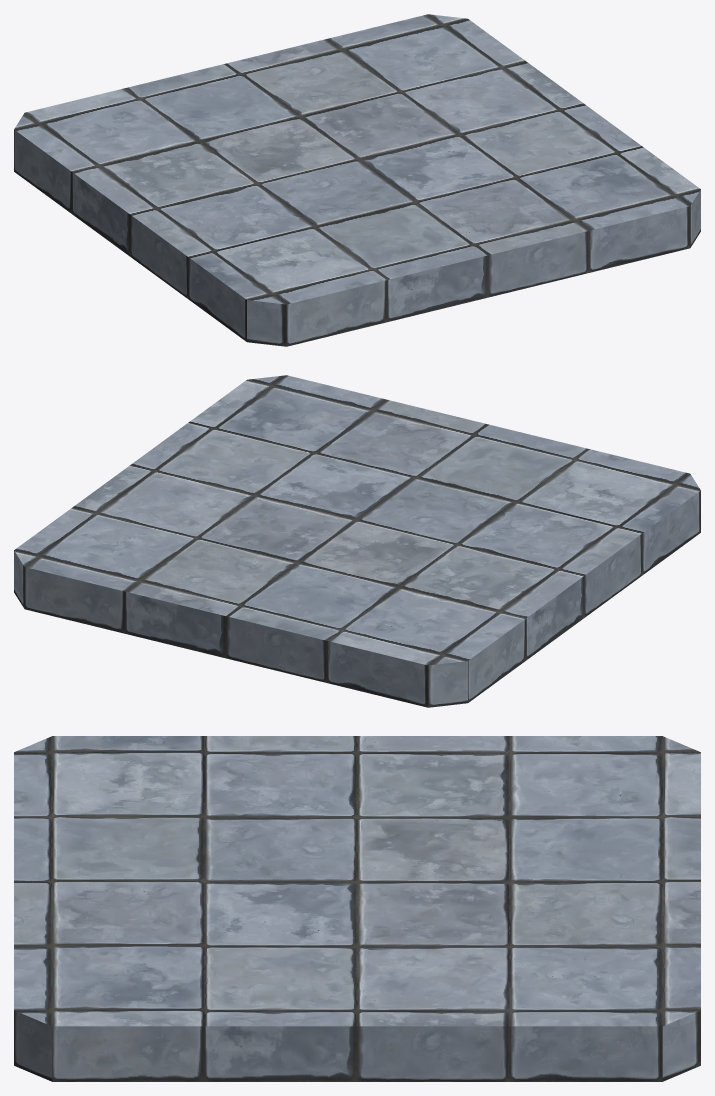
The model's file is Floor1.fbx.
The picture shows the model from 3 angles, top to bottom: view 1: azimuth 30°, elevation 25°; view 2: azimuth 150°, elevation 25°; view 3: azimuth 270°, elevation 25°; orthographic projection. The views are drawn at different scales.
Parts seen in each view (by area): view 1: roof_square_85; view 2: roof_square_85; view 3: roof_square_85.
Part boxes in pixels (x1,y1,x2,y2): roof_square_85: (14,14,700,346); roof_square_85: (14,375,700,707); roof_square_85: (14,736,700,1081).
Bounding box in the file's own units: 11.25 × 1 × 11.25.
Materials: 1 (1 with a texture image).
